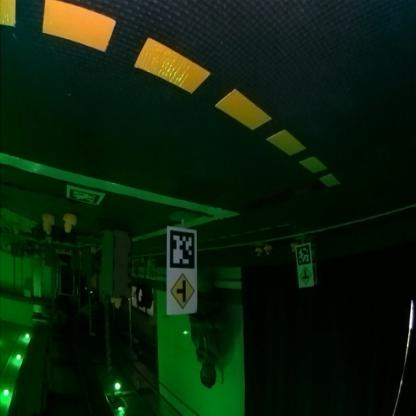Duckie: (66, 216, 76, 234), (44, 216, 54, 230), (112, 299, 122, 309), (266, 248, 272, 256), (291, 245, 297, 253), (259, 250, 262, 258)
Intersection sign: (170, 274, 196, 310), (300, 268, 312, 286)
QR code: (170, 232, 194, 270), (70, 186, 104, 206), (298, 246, 310, 264)
